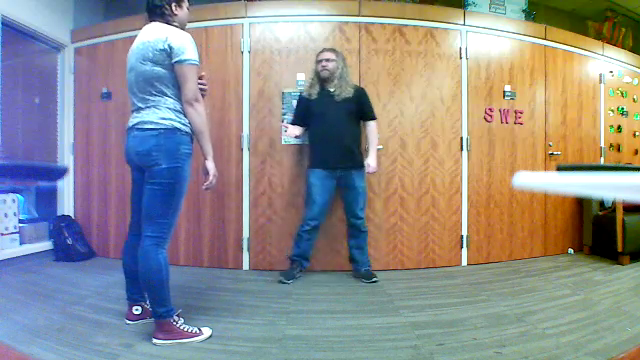land: (275, 116, 306, 148)
